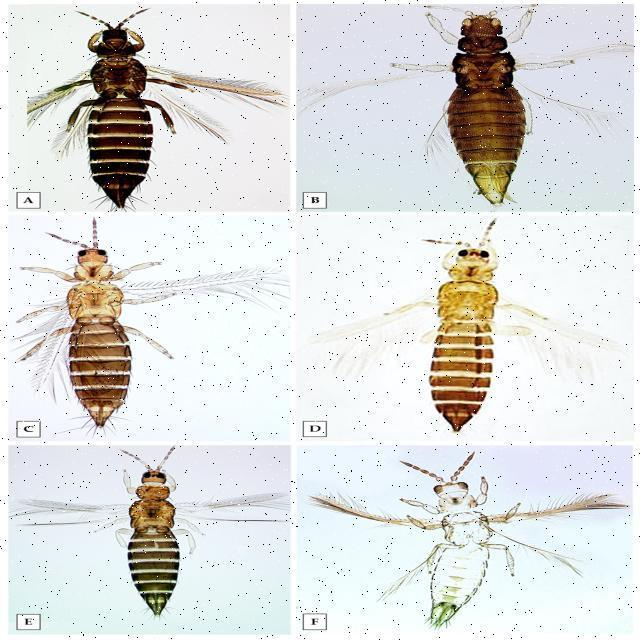Thrips: (320, 216, 570, 446), (1, 10, 264, 212), (1, 225, 221, 440), (359, 11, 599, 207), (27, 439, 274, 620), (325, 445, 543, 625)
